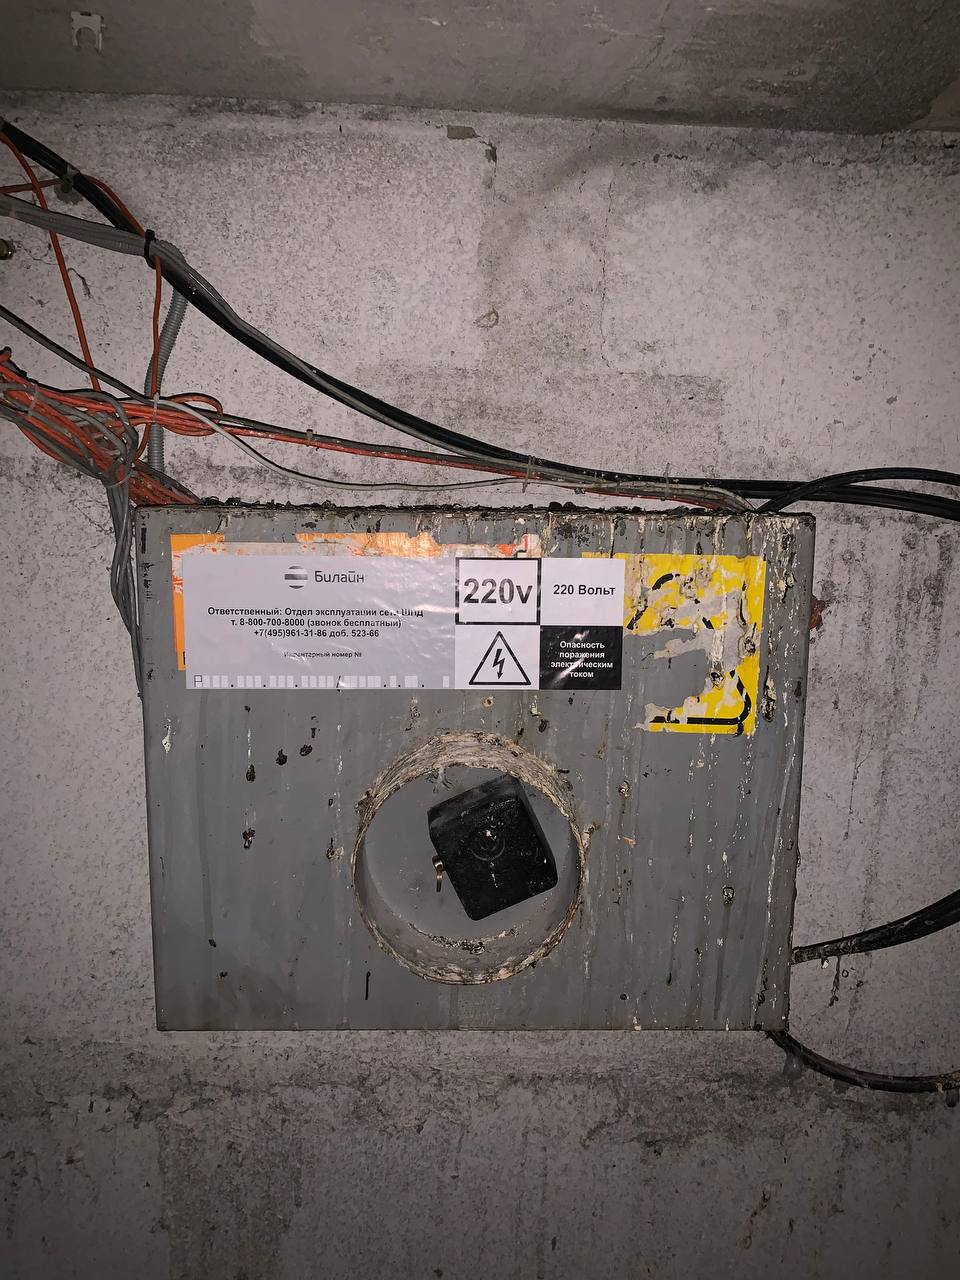shta-3: (133, 504, 818, 1037)
